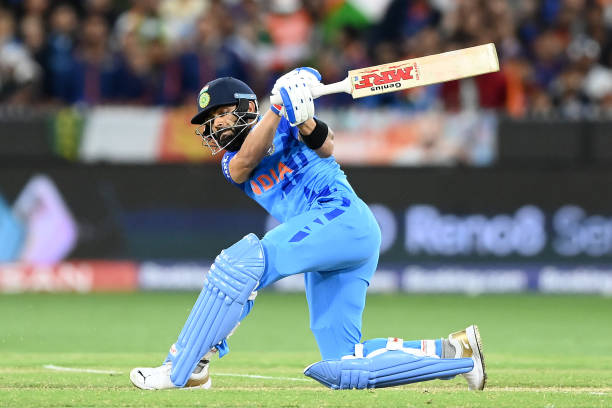bottom left: (481, 31, 502, 52)
bottom right: (487, 60, 508, 81)
top left: (342, 64, 357, 79)
top right: (348, 90, 362, 104)
